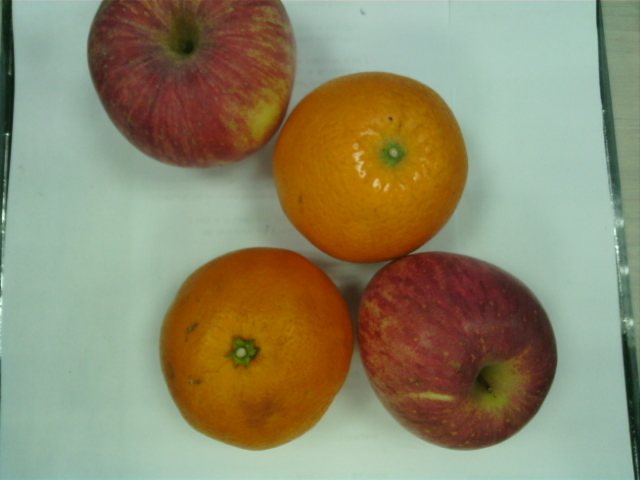normal_apple: (356, 252, 558, 450), (88, 1, 296, 168)
normal_orange: (160, 248, 353, 451), (273, 72, 469, 264)
